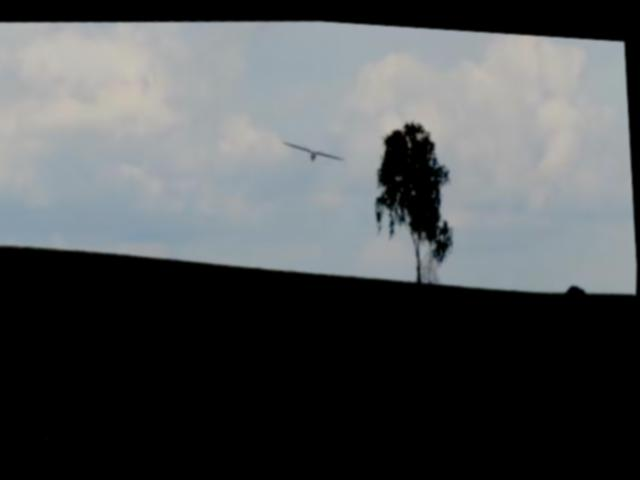uav: (280, 129, 345, 163)
